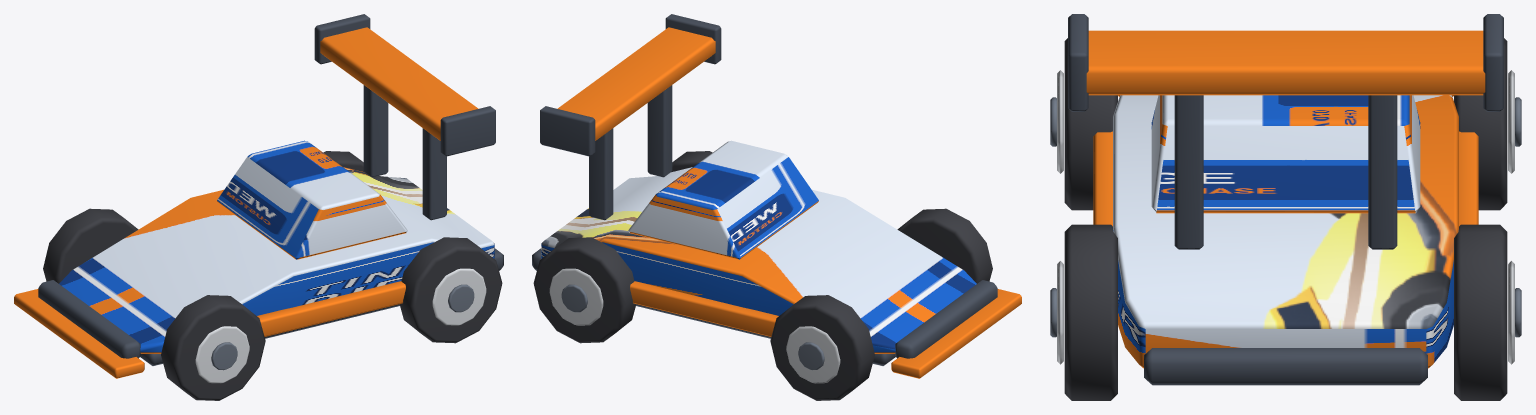
3 views of the same model, side by side, from view 1: azimuth 30°, elevation 25°; view 2: azimuth 150°, elevation 25°; view 3: azimuth 270°, elevation 25° (orthographic). The views are drawn at different scales.
Parts seen in each view (by area): view 1: TC-02_connected_shell, TC-02_cabin, rear airfoil, Tire, Tire.002, Tire.001, custom side guard, custom chin, front bumper, wing endplate, wing support.001, wing support (+7 smaller); view 2: TC-02_connected_shell, TC-02_cabin, rear airfoil, Tire.001, Tire.003, Tire, custom side guard.001, custom chin, front bumper, wing endplate.001, wing support, wing support.001 (+7 smaller); view 3: TC-02_connected_shell, rear airfoil, TC-02_cabin, rear bumper, Tire.002, Tire.003, wing support, wing support.001, Tire, Tire.001, wing endplate, wing endplate.001 (+6 smaller).
Part boxes in pixels (x1,y1,x2,y2): TC-02_connected_shell: (59, 167, 494, 353); TC-02_cabin: (217, 140, 407, 259); rear airfoil: (320, 27, 478, 140); Tire: (161, 295, 265, 400); Tire.002: (399, 237, 502, 343); Tire.001: (43, 208, 138, 283); custom side guard: (257, 281, 405, 336); custom chin: (14, 289, 144, 378); front bumper: (38, 280, 140, 358); wing endplate: (440, 106, 495, 156); wing support.001: (363, 85, 388, 177); wing support: (422, 128, 446, 220); TC-02_connected_shell: (541, 167, 976, 353); TC-02_cabin: (628, 140, 818, 259); rear airfoil: (557, 27, 715, 140); Tire.001: (770, 295, 874, 400); Tire.003: (533, 237, 636, 343); Tire: (897, 208, 992, 283); custom side guard.001: (630, 281, 778, 336); custom chin: (891, 289, 1021, 378); front bumper: (895, 280, 997, 358); wing endplate.001: (540, 106, 595, 156); wing support: (647, 85, 672, 177); wing support.001: (589, 128, 613, 220); TC-02_connected_shell: (1113, 95, 1458, 368); rear airfoil: (1086, 30, 1485, 95); TC-02_cabin: (1151, 95, 1420, 213); rear bumper: (1144, 348, 1427, 385); Tire.002: (1064, 224, 1117, 400); Tire.003: (1454, 224, 1507, 400); wing support: (1174, 95, 1203, 249); wing support.001: (1368, 95, 1397, 249); Tire: (1064, 38, 1117, 210); Tire.001: (1454, 38, 1507, 210); wing endplate: (1068, 14, 1088, 111); wing endplate.001: (1483, 14, 1503, 111).
Bounding box in the file's own units: 369 × 199 × 229.
